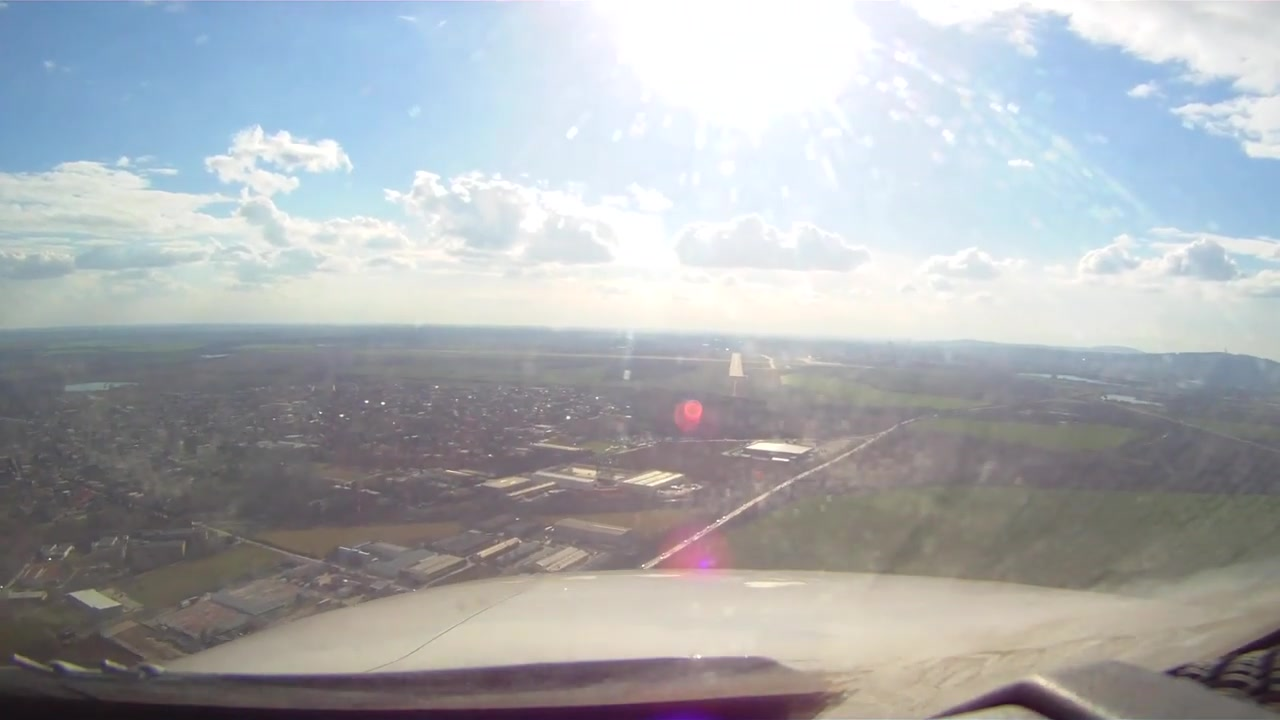runway: (727, 349, 745, 379)
